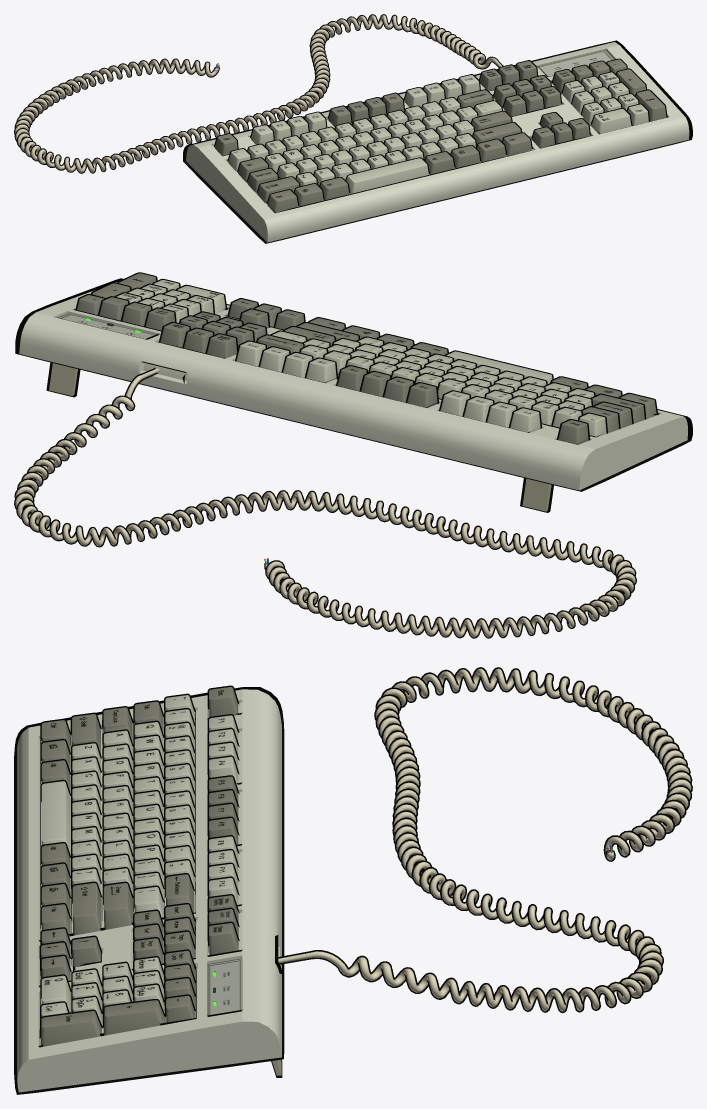
File: vintage_keyboard.glb
The picture shows the model from 3 angles, top to bottom: view 1: azimuth 30°, elevation 25°; view 2: azimuth 150°, elevation 25°; view 3: azimuth 270°, elevation 25°; orthographic projection. The views are drawn at different scales.
Parts seen in each view (by area): view 1: teclas_2, teclado_0, cable_7; view 2: teclado_0, teclas_2, cable_7, Cube.001_25; view 3: teclas_2, teclado_0, cable_7.
Boxes of the visible parts, x1,y1,x2,y2 form: teclas_2: (214,58,667,212); teclado_0: (183,40,692,243); cable_7: (14,14,503,173); teclado_0: (15,278,692,491); teclas_2: (75,272,658,444); cable_7: (14,367,636,638); Cube.001_25: (46,362,553,512); teclas_2: (39,685,239,1046); teclado_0: (14,687,284,1094); cable_7: (278,667,692,1013).
Size of the model in its own units: 200 by 20.24 by 140.
12 materials, 3 textured.
